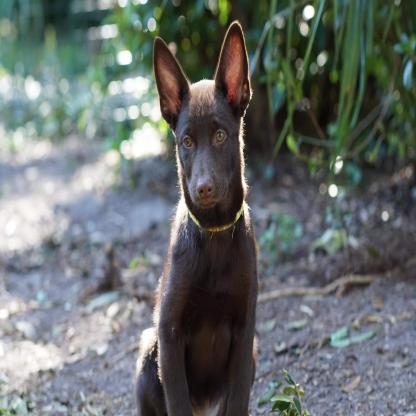Australian Kelpie: (130, 10, 282, 408)
